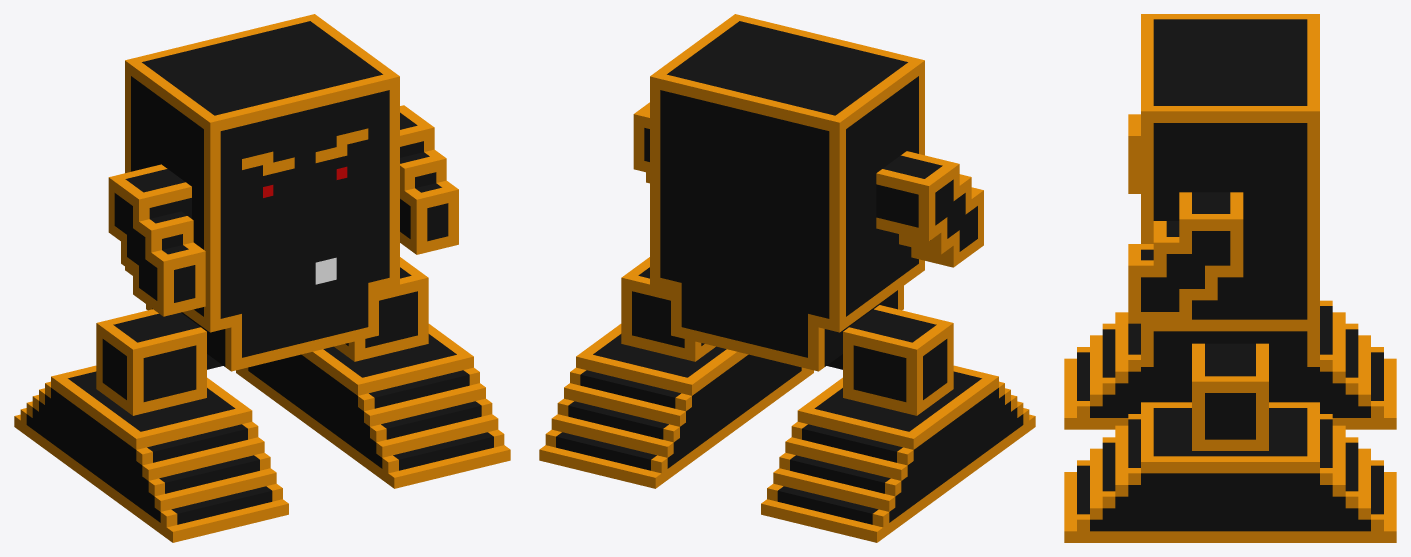
The model's file is spasm.fbx.
3 views of the same model, side by side, from view 1: azimuth 30°, elevation 25°; view 2: azimuth 150°, elevation 25°; view 3: azimuth 270°, elevation 25° (orthographic). The views are drawn at different scales.
Parts seen in each view (by area): view 1: spasm.001; view 2: spasm.001; view 3: spasm.001.
Boxes of the visible parts, left/top/right/bottom form: spasm.001: left=14, top=14, right=510, bottom=542; spasm.001: left=539, top=14, right=1035, bottom=542; spasm.001: left=1064, top=14, right=1396, bottom=542.
Bounding box in the file's own units: 9600 × 10200 × 7800.
